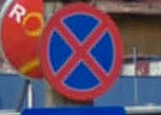oprirea_interzisa: (39, 5, 125, 101)
